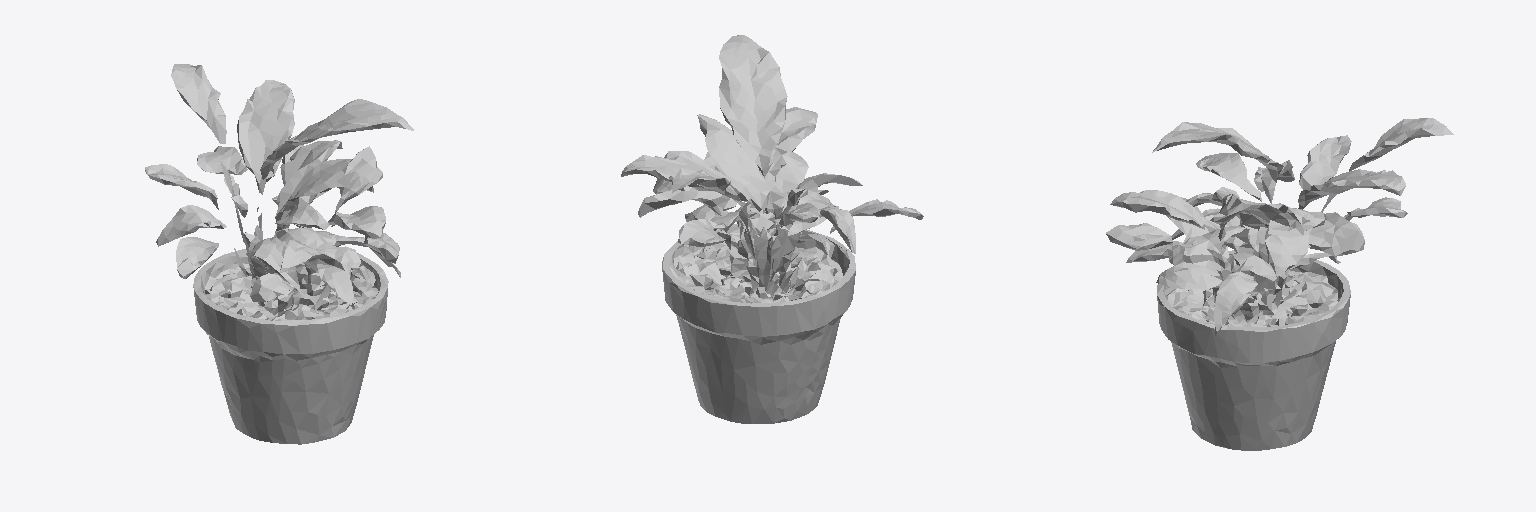
Rendered from Maceta.obj.
The picture shows the model from 3 angles: view 1: azimuth 30°, elevation 25°; view 2: azimuth 150°, elevation 25°; view 3: azimuth 270°, elevation 25°; orthographic projection.
Visible parts, largest first — view 1: polySurface10, polySurface18 Mesh; view 2: polySurface10, polySurface18 Mesh; view 3: polySurface10, polySurface18 Mesh.
Boxes of the visible parts, x1=… form: polySurface10: x1=145, y1=64, x2=413, y2=318; polySurface18 Mesh: x1=193, y1=249, x2=388, y2=444; polySurface10: x1=621, y1=35, x2=923, y2=301; polySurface18 Mesh: x1=662, y1=224, x2=855, y2=423; polySurface10: x1=1106, y1=118, x2=1453, y2=335; polySurface18 Mesh: x1=1157, y1=250, x2=1350, y2=450.
Bounding box in the file's own units: 0.2948 × 0.3833 × 0.3812.